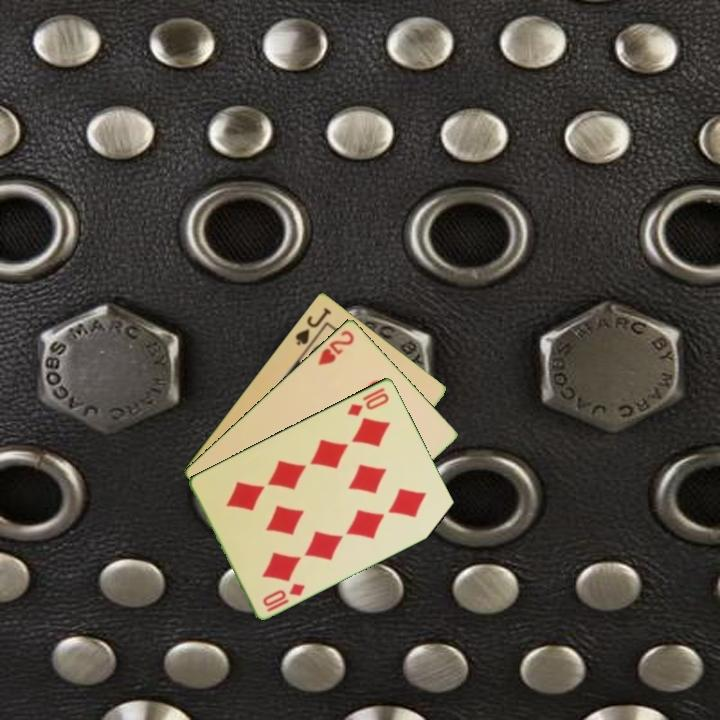10d: (259, 579, 308, 614), (344, 384, 392, 419)
2h: (314, 326, 357, 368)
Js: (292, 304, 334, 348)
